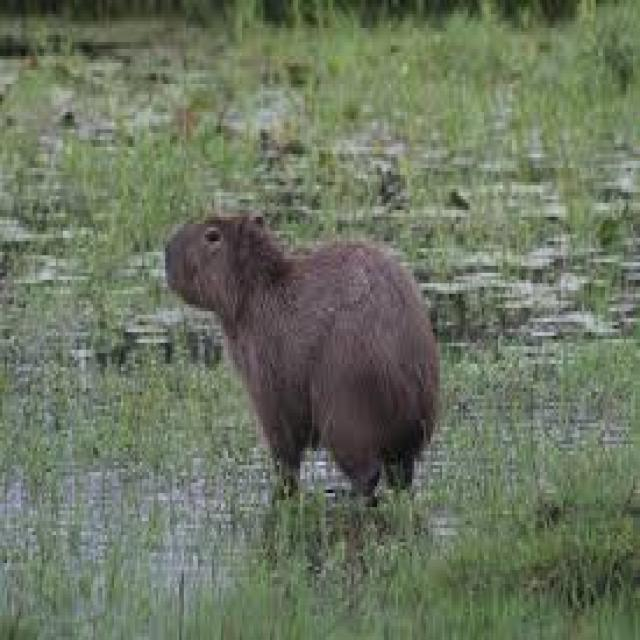Rat: (164, 169, 475, 513)
